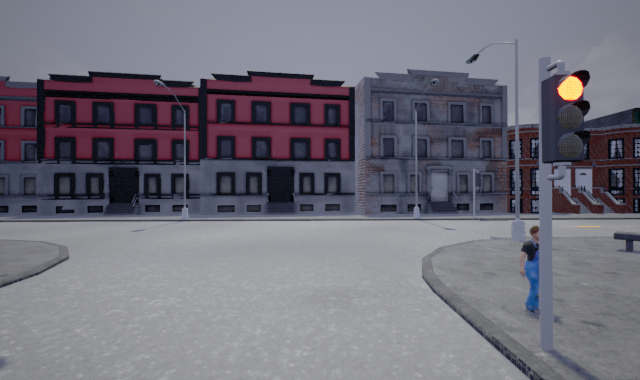pedestrian: (516, 225, 549, 316)
traffic_light: (540, 69, 592, 163)
